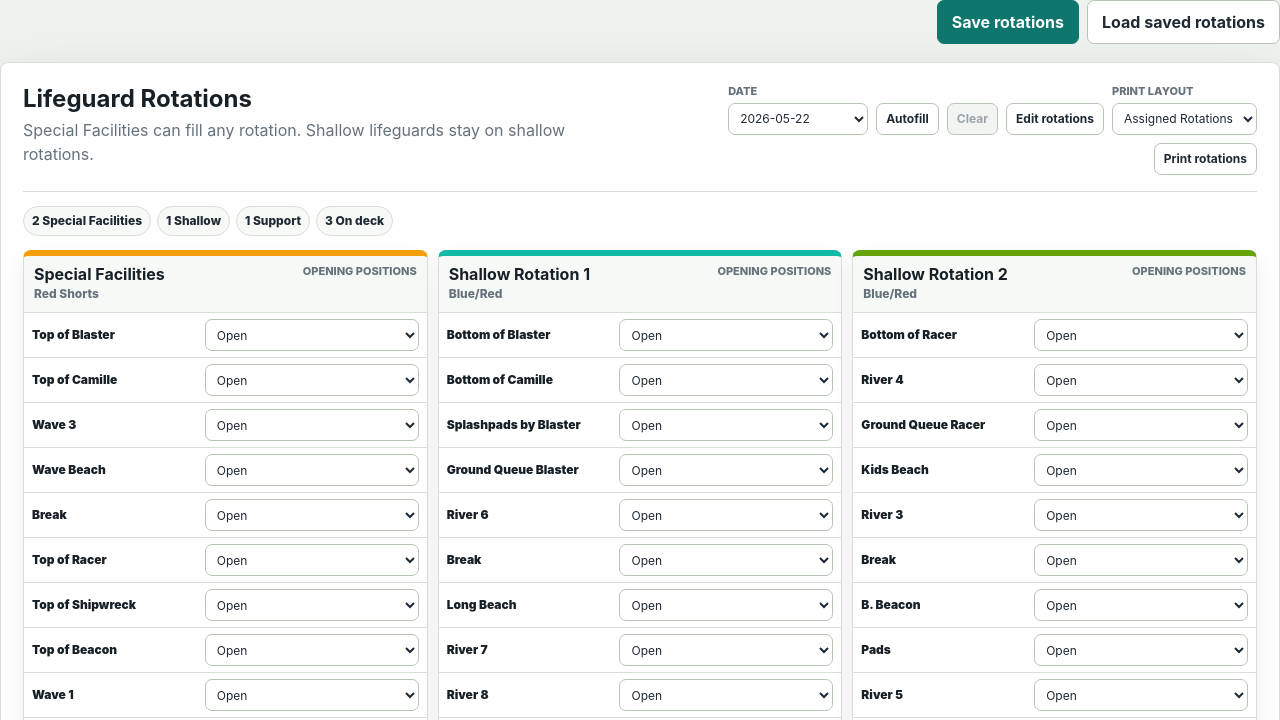
Test: RotationBuilder persistence › prints a break sheet with employee names and starting positions
This screenshot has width=1280, height=720.
Select "ALEX SMITH" in the dropdown labelled "Top of Blaster" at x=312, y=335, box top-left (205, 319), bottom-right (419, 351)
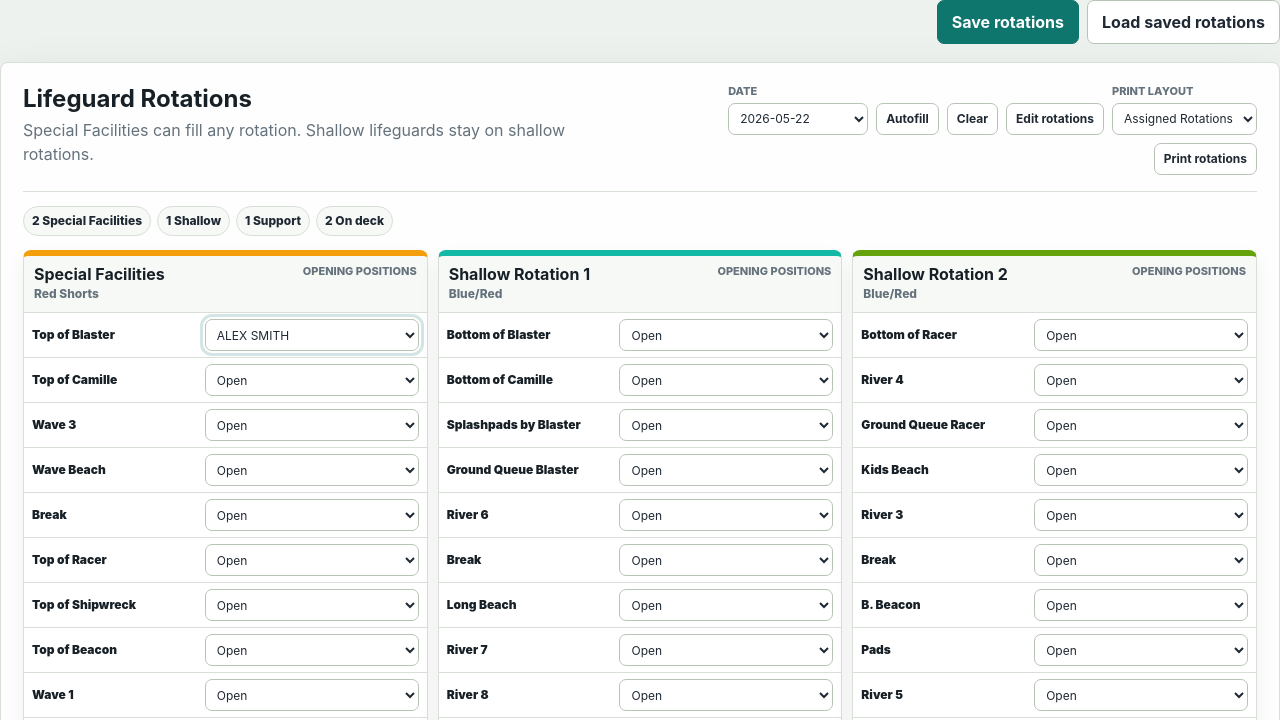
Select "Break Sheet" in the dropdown labelled "Print layout" at x=1184, y=119, box top-left (1112, 103), bottom-right (1257, 135)
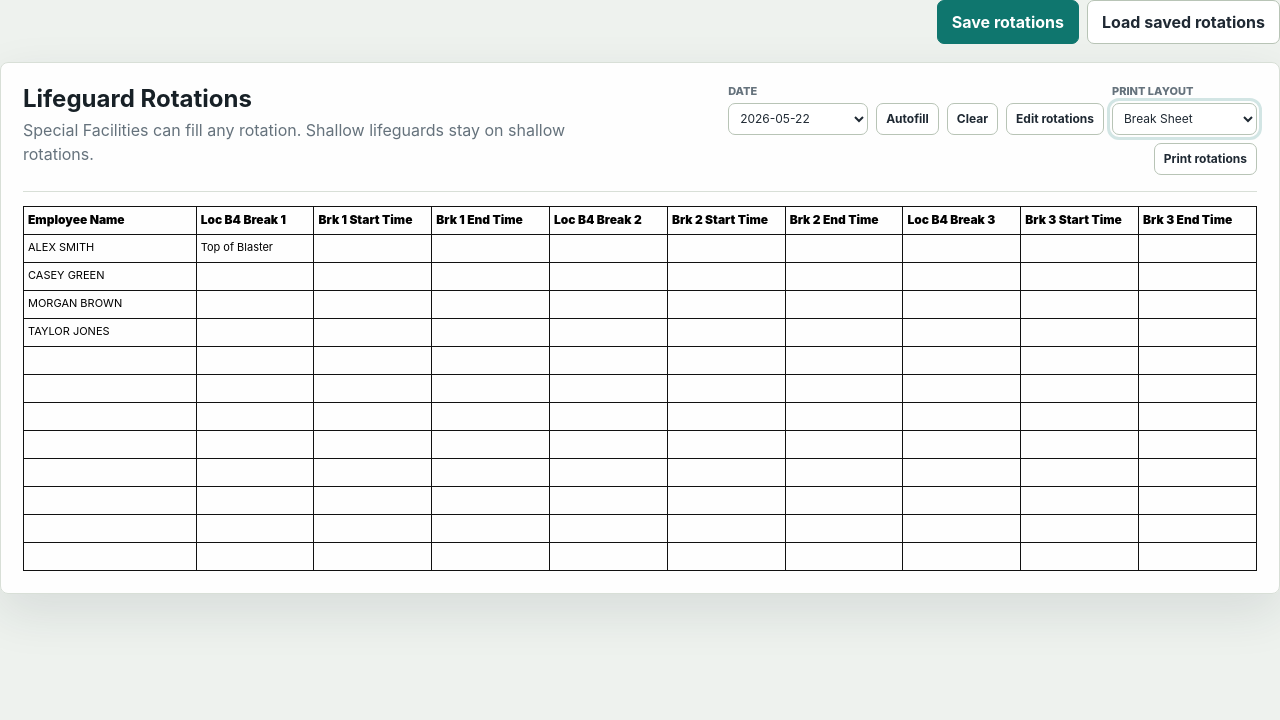
Result: the table named "Lifeguard break sheet" is shown at top-left (23, 206), bottom-right (1257, 571)
Result: the column heading "Employee Name" is shown at top-left (24, 206), bottom-right (196, 234)
Result: the column heading "Loc B4 Break 1" is shown at top-left (196, 206), bottom-right (314, 234)
